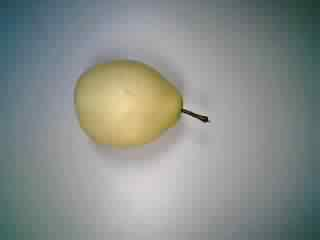pear: (59, 50, 220, 154)
